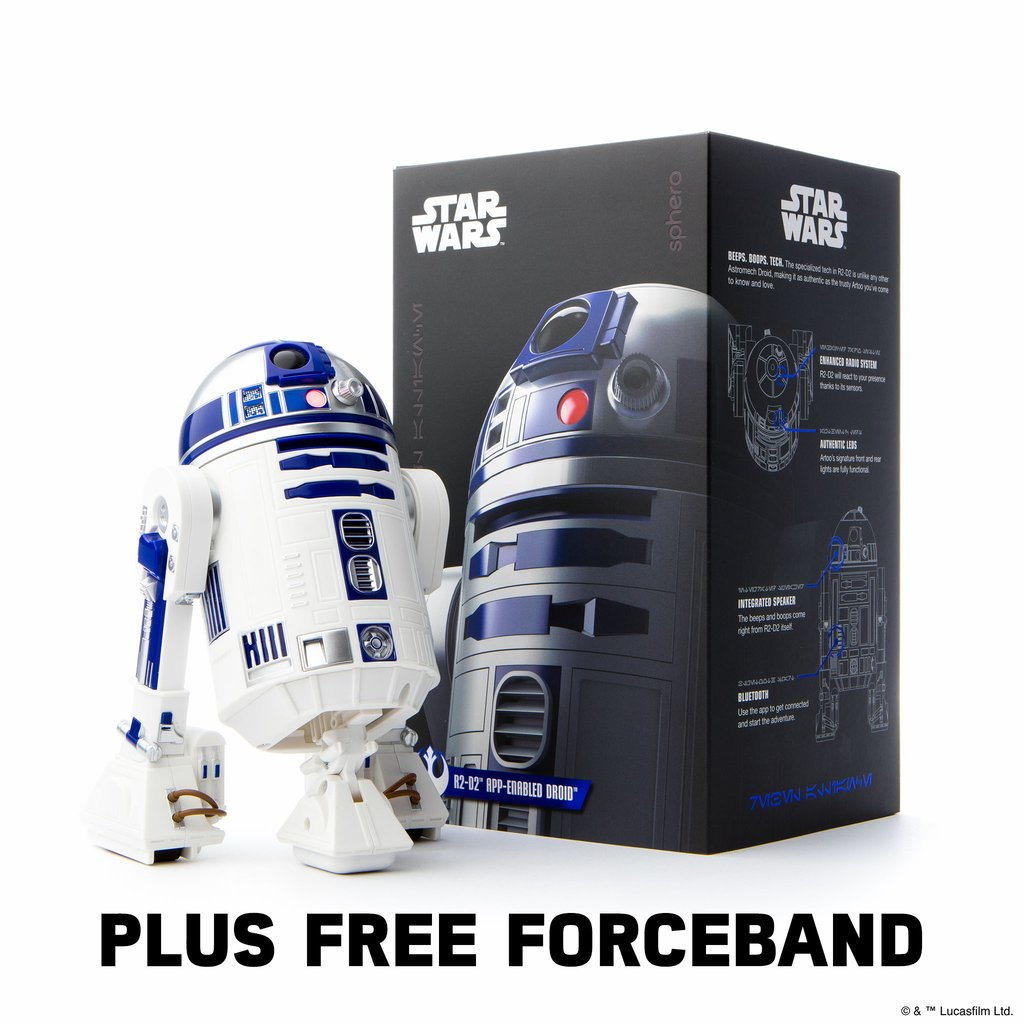r2d2: (87, 340, 449, 876)
